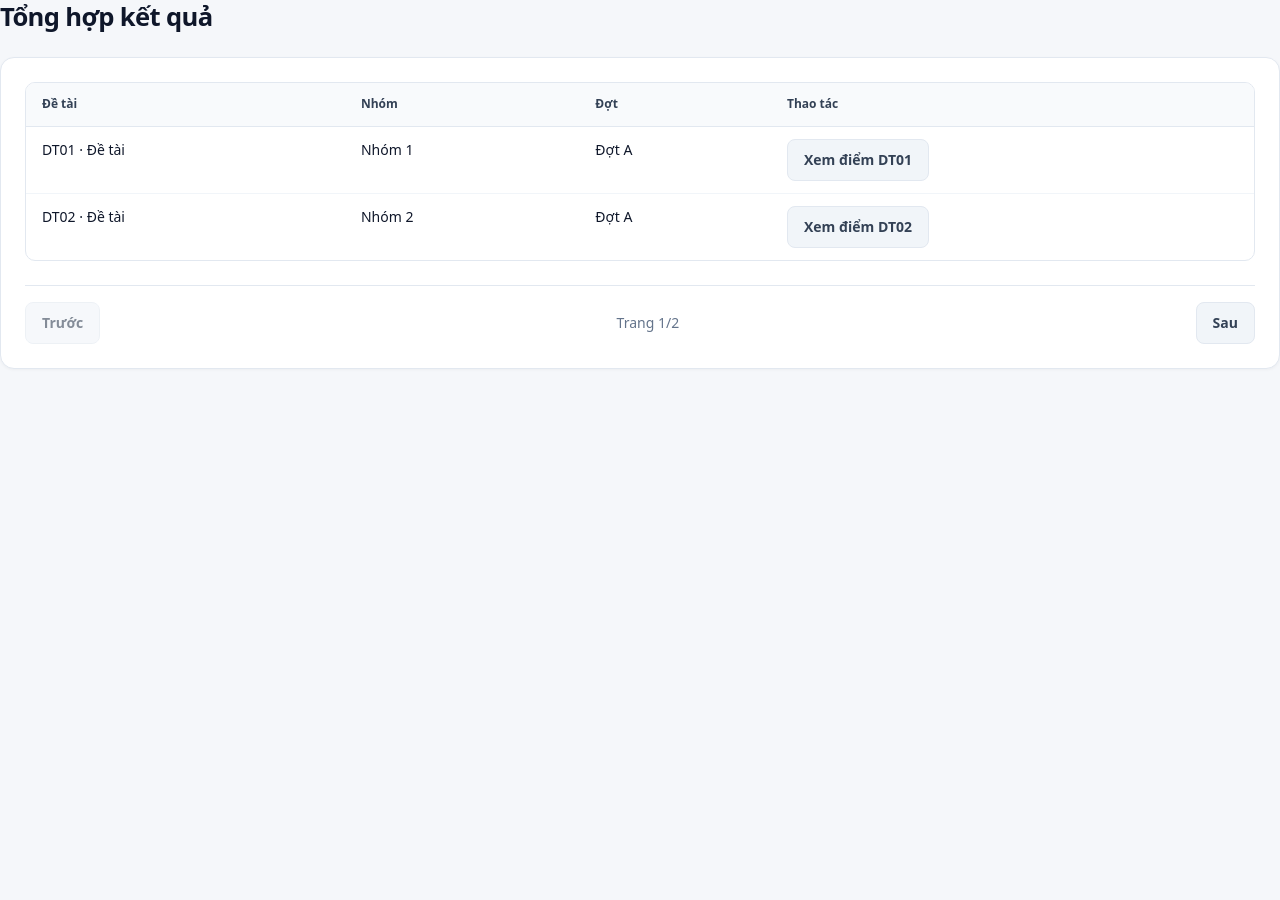
làm mới tải lại điểm xem trước, lỗi tải điểm không chặn kết quả và có thể thử lại
Click the button "Xem điểm DT01" at coordinates (858, 160), box x1=787 y1=139 x2=929 y2=181
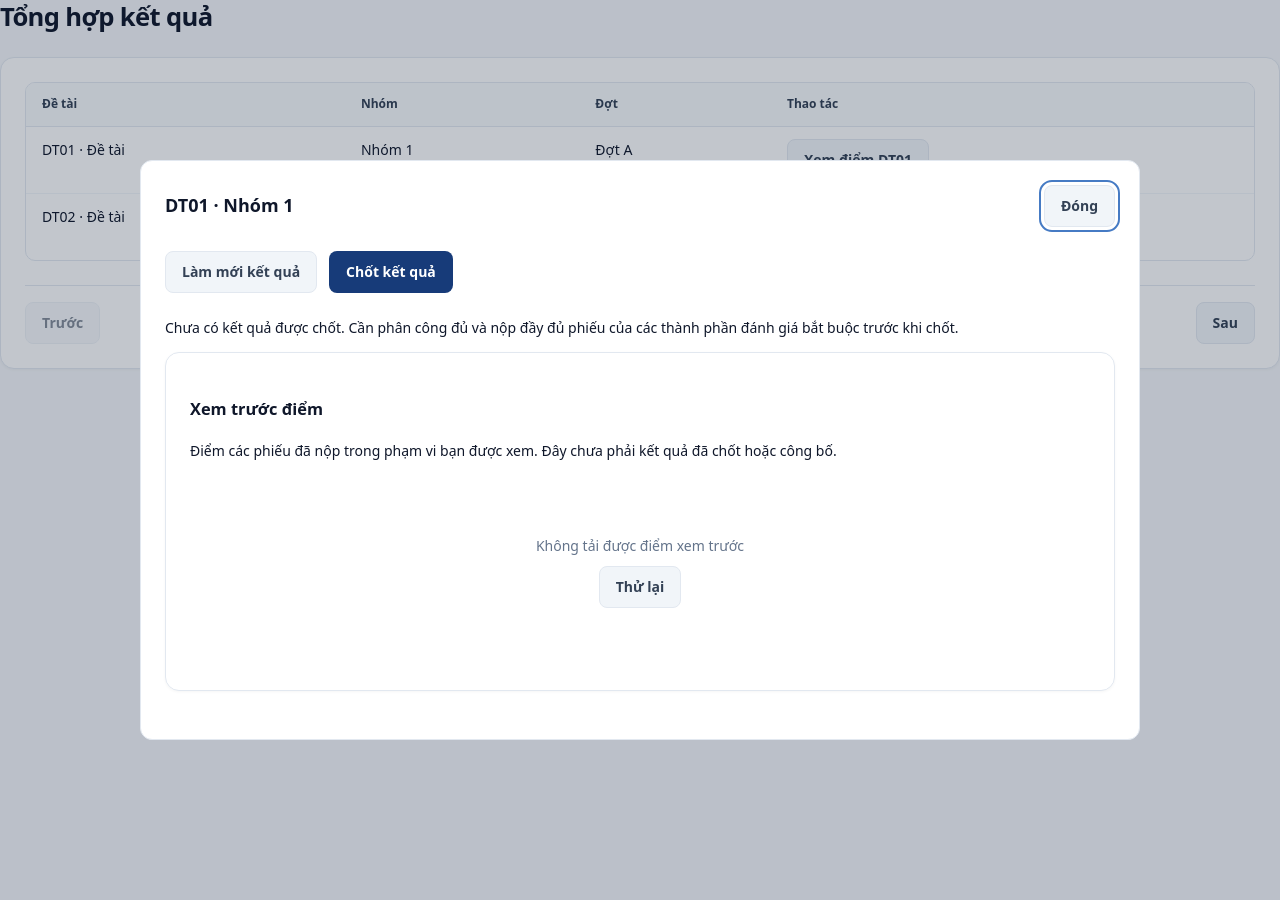
Expected: the text "Chưa có kết quả được chốt" is shown, x1=165 y1=318 x2=958 y2=337
Expected: the text "Không tải được điểm xem trước" is shown, x1=536 y1=534 x2=744 y2=558
Expected: the button "Chốt kết quả" is shown, x1=329 y1=251 x2=453 y2=293
Click the button "Thử lại" at coordinates (640, 587), box x1=599 y1=566 x2=681 y2=608
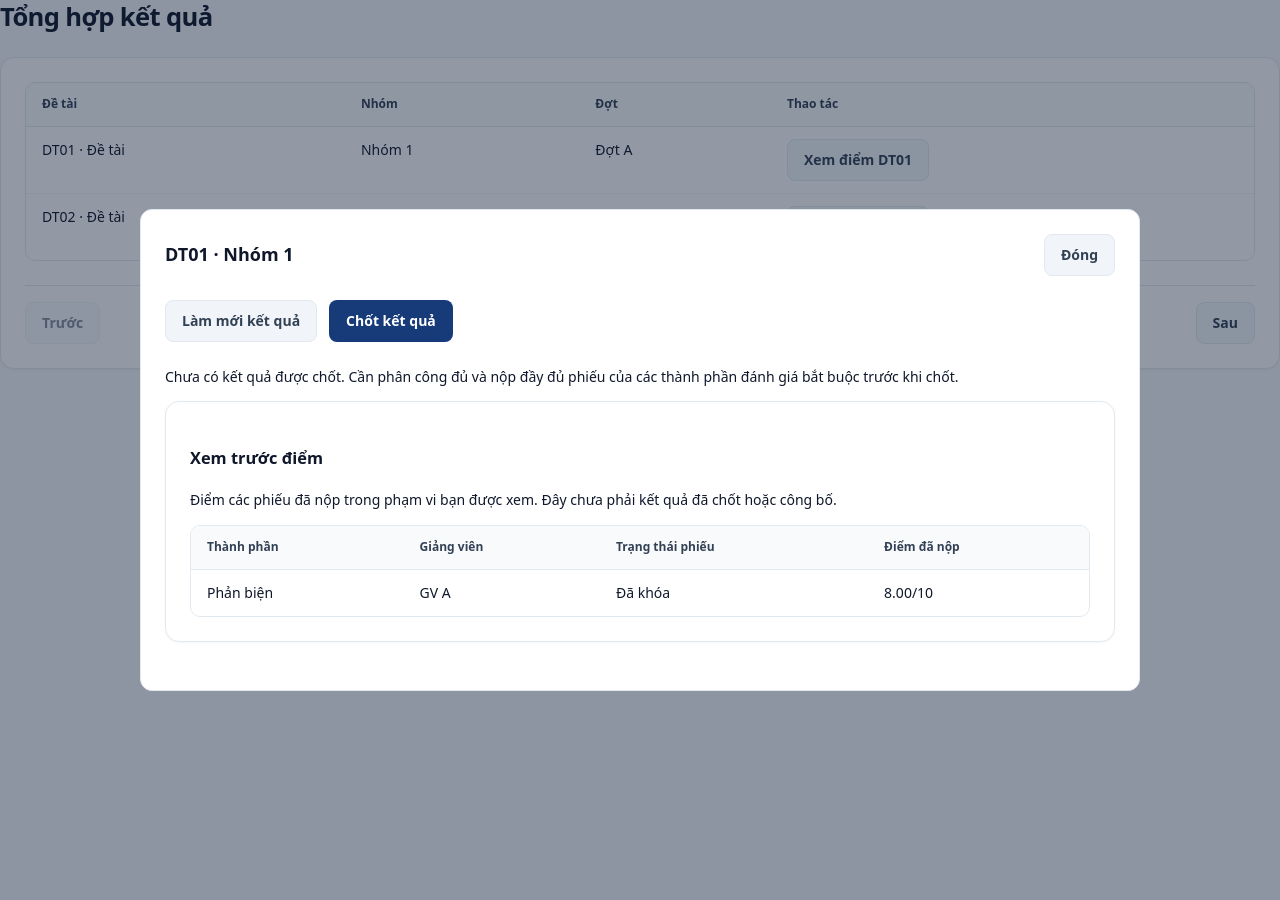
Expected: the text "8.00/10" is shown, x1=868 y1=569 x2=1089 y2=616
Click the button "Làm mới kết quả" at coordinates (241, 321), box x1=165 y1=300 x2=317 y2=342
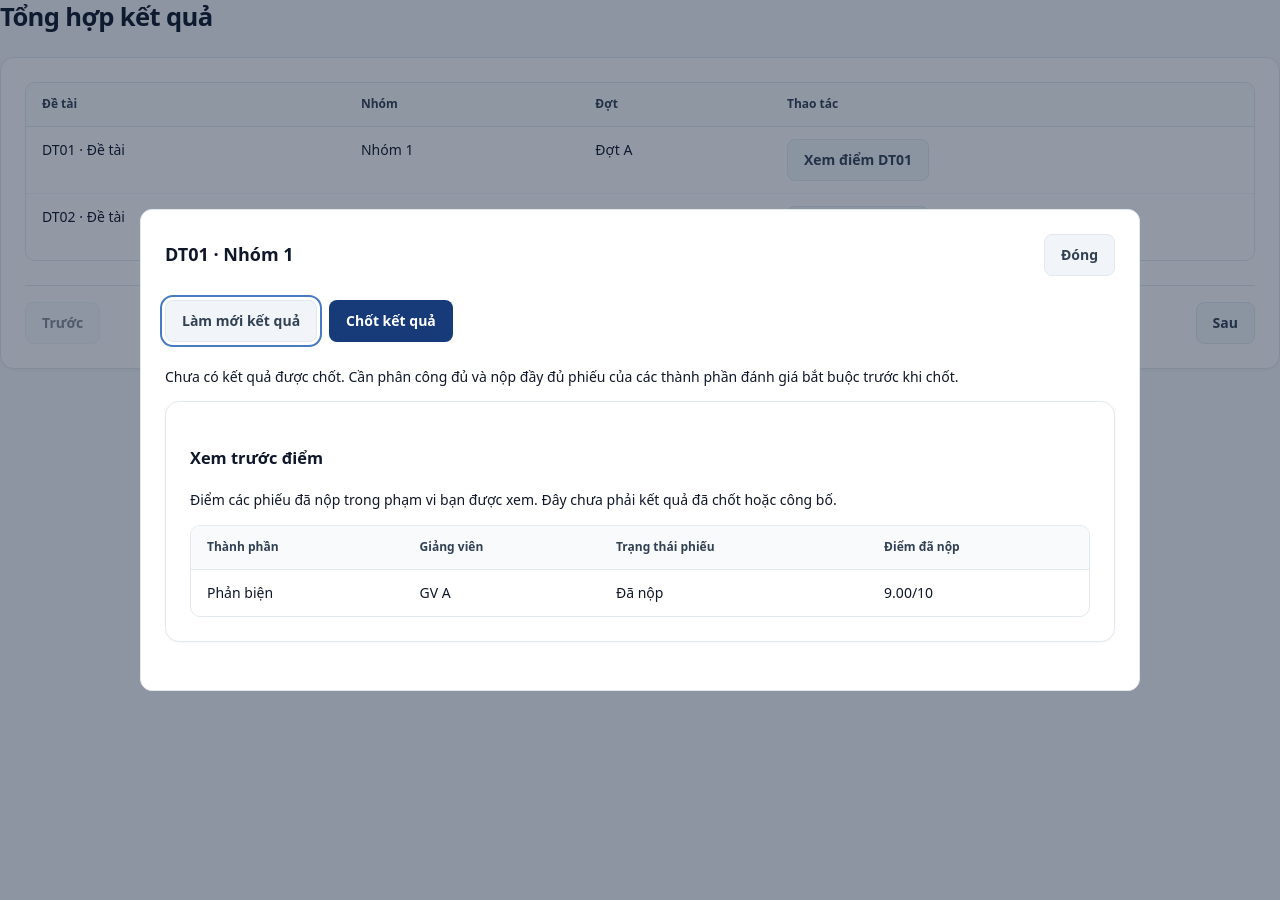
Expected: the text "9.00/10" is shown, x1=868 y1=569 x2=1089 y2=616
